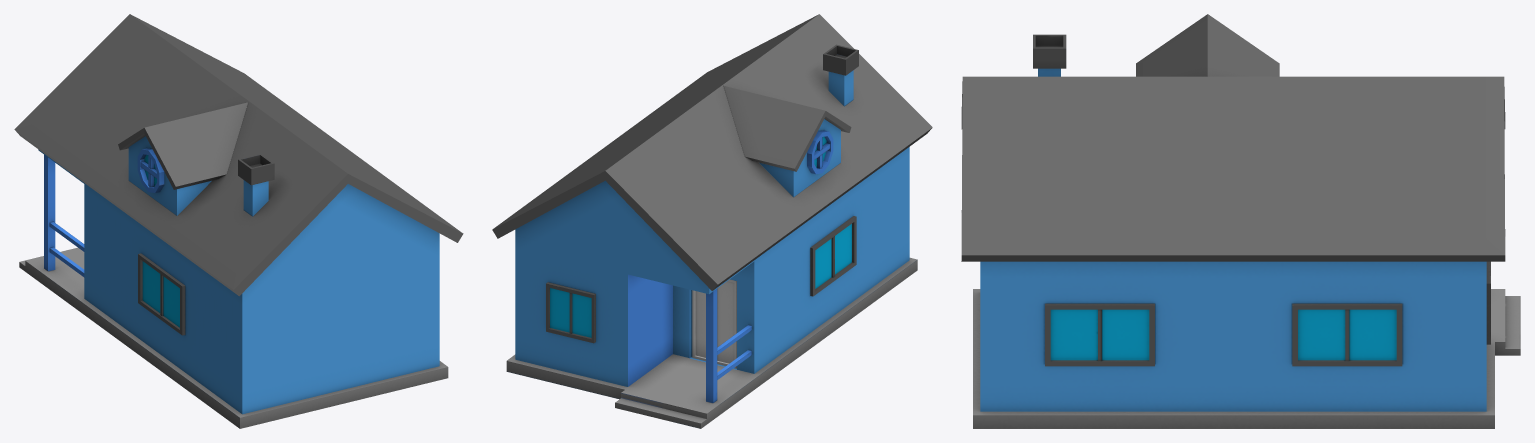
File: house model.glb
The picture shows the model from 3 angles, left to right: view 1: azimuth 30°, elevation 25°; view 2: azimuth 150°, elevation 25°; view 3: azimuth 270°, elevation 25°; orthographic projection. The views are drawn at different scales.
Visible parts, largest first — view 1: House 3 Complete; view 2: House 3 Complete; view 3: House 3 Complete.
Part boxes in pixels (x1=…): House 3 Complete: x1=14, y1=14, x2=463, y2=428; House 3 Complete: x1=492, y1=14, x2=932, y2=428; House 3 Complete: x1=961, y1=14, x2=1520, y2=428.
Size of the model in its own units: 1157 by 1122 by 1962.
Materials: 1 (1 with a texture image).
